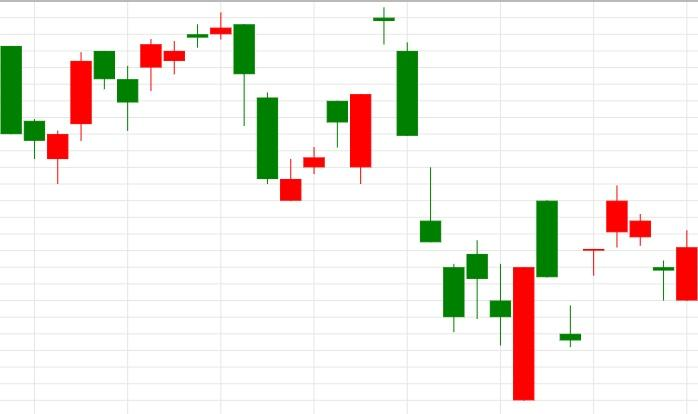bullish_engulfing_rise: (374, 7, 535, 402), (605, 184, 698, 301)
inverse_hammer_rise: (373, 7, 442, 244)
